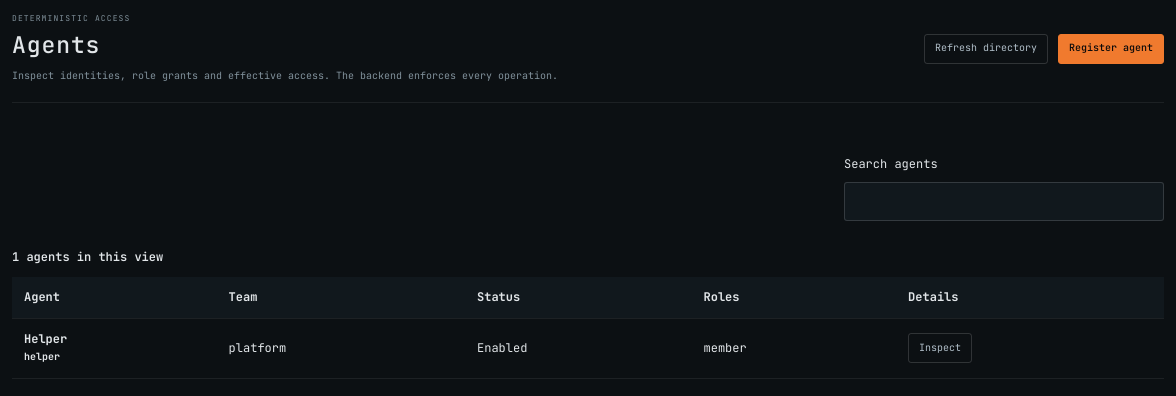
Test: agent identities and permission management › clears unavailable independent details instead of retaining access controls (403)
Click the button with aria-label "Inspect helper".
click(940, 348)  # box [908,333,972,363]
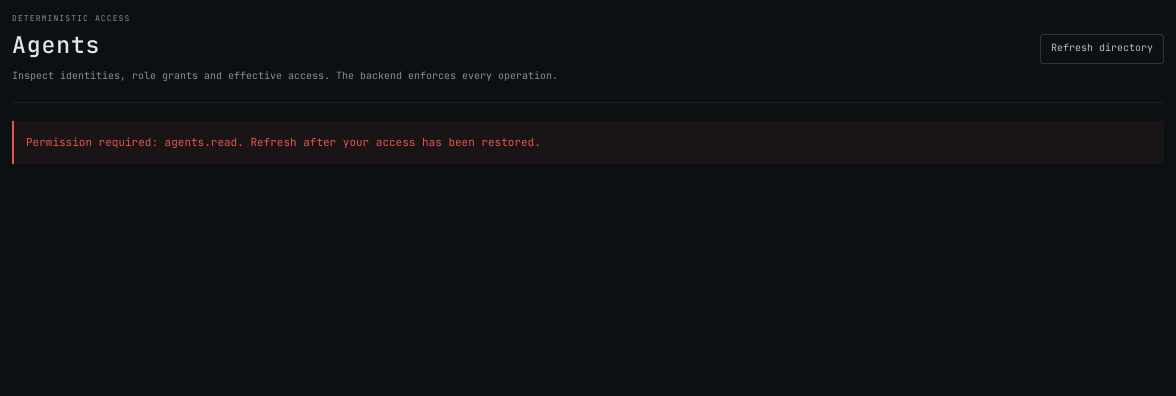
Now the message "Permission required: agents.read. Refresh after your access has been restored." is shown, box [12,122,1164,164]
